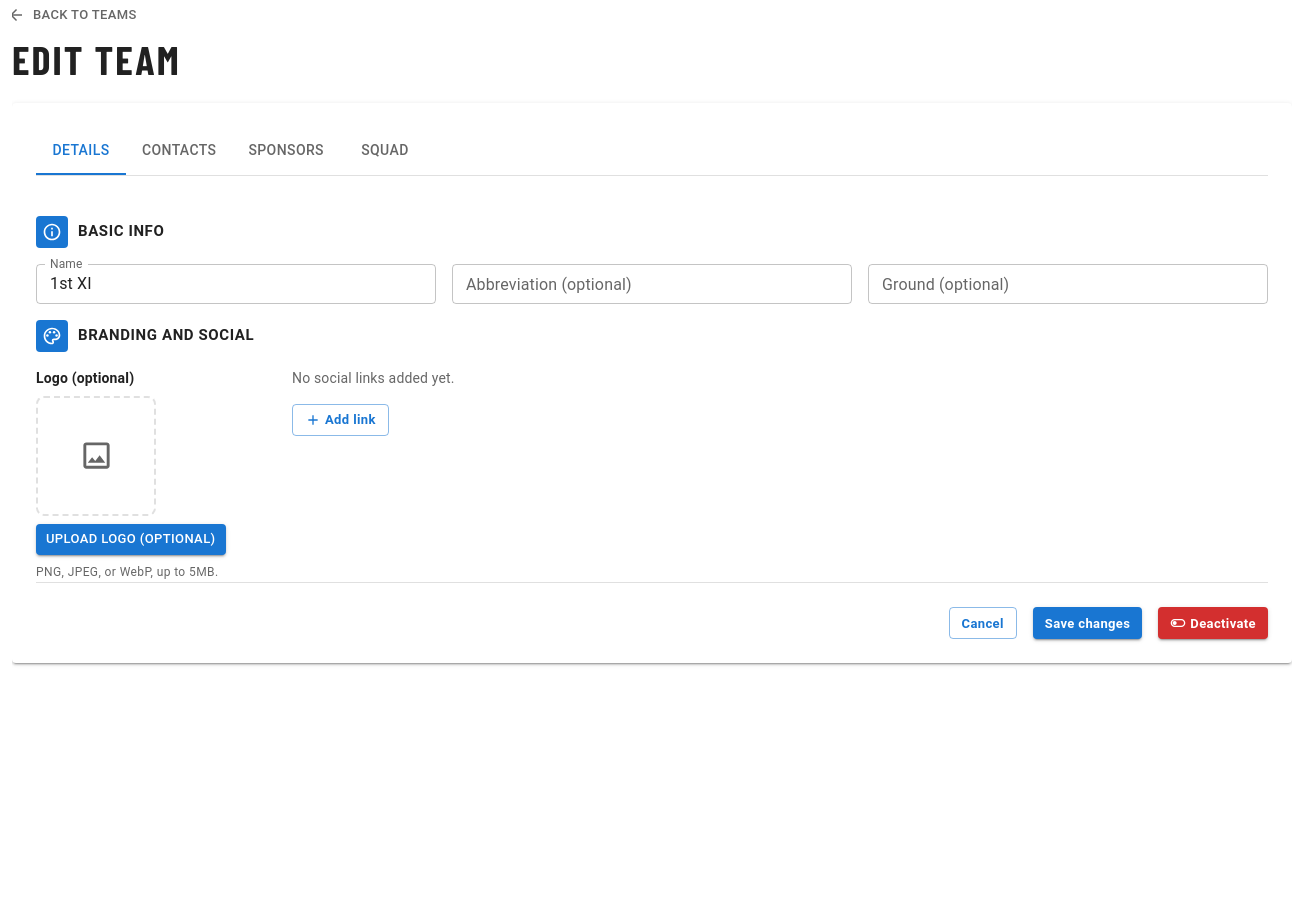
Test: TeamFormPage › section-scoped mode (sectionId in the route) › edit: renders Details/Contacts/Sponsors as tabs, one panel visible at a time, with the Save action only shown on Details
Expected: the heading "Edit Team" is shown, left=12, top=35, right=181, bottom=83
Expected: the field labelled "Name" is shown, left=36, top=264, right=436, bottom=304
Click the tab "Contacts": click(179, 151) left=126, top=127, right=232, bottom=175
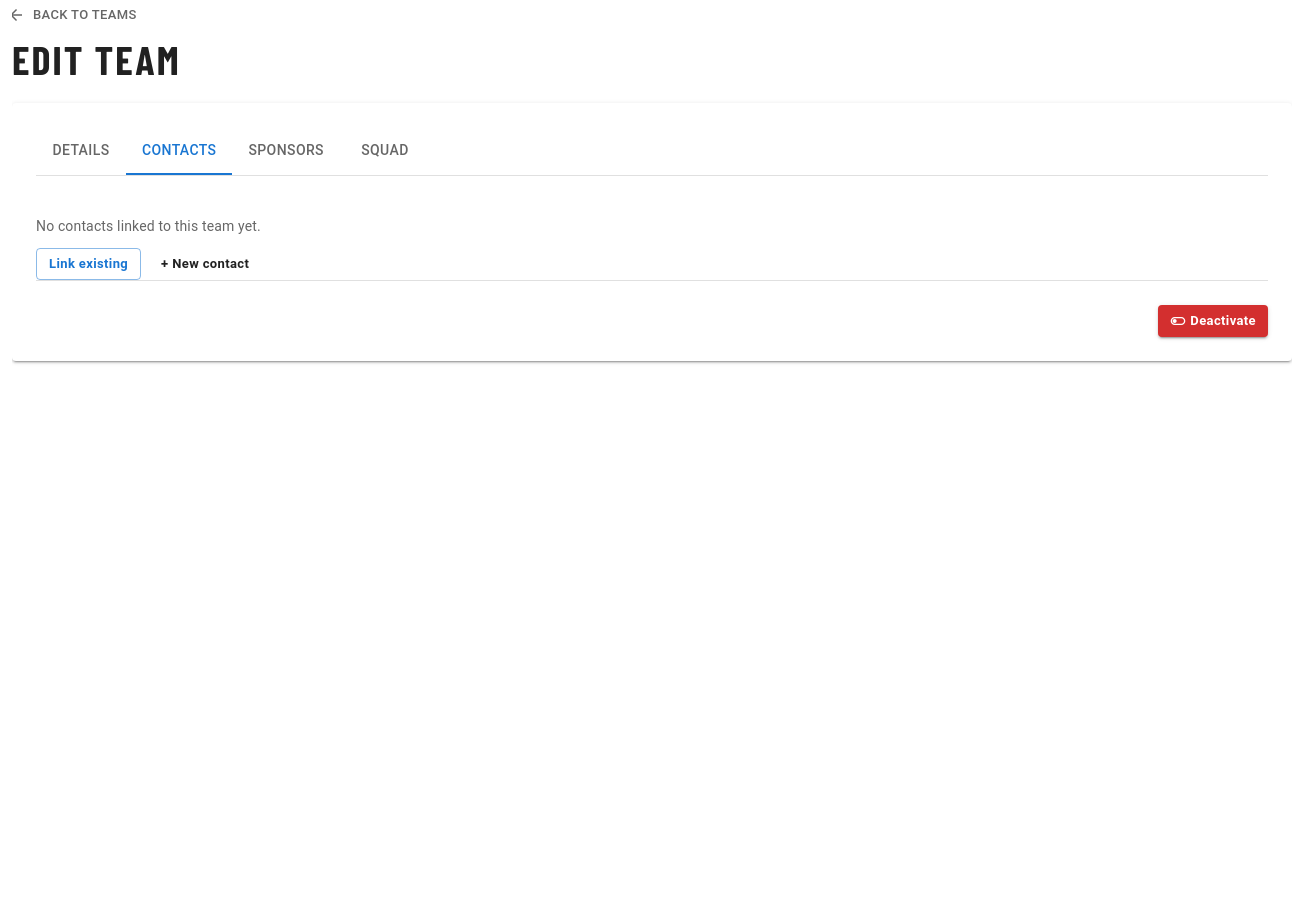
Result: the text "No contacts linked to this team yet." is shown at left=36, top=218, right=261, bottom=234
Result: the label labelled "Name" is gone
Result: the button "Save changes" is gone
Click the tab "Sponsors": click(286, 151) left=232, top=127, right=340, bottom=175
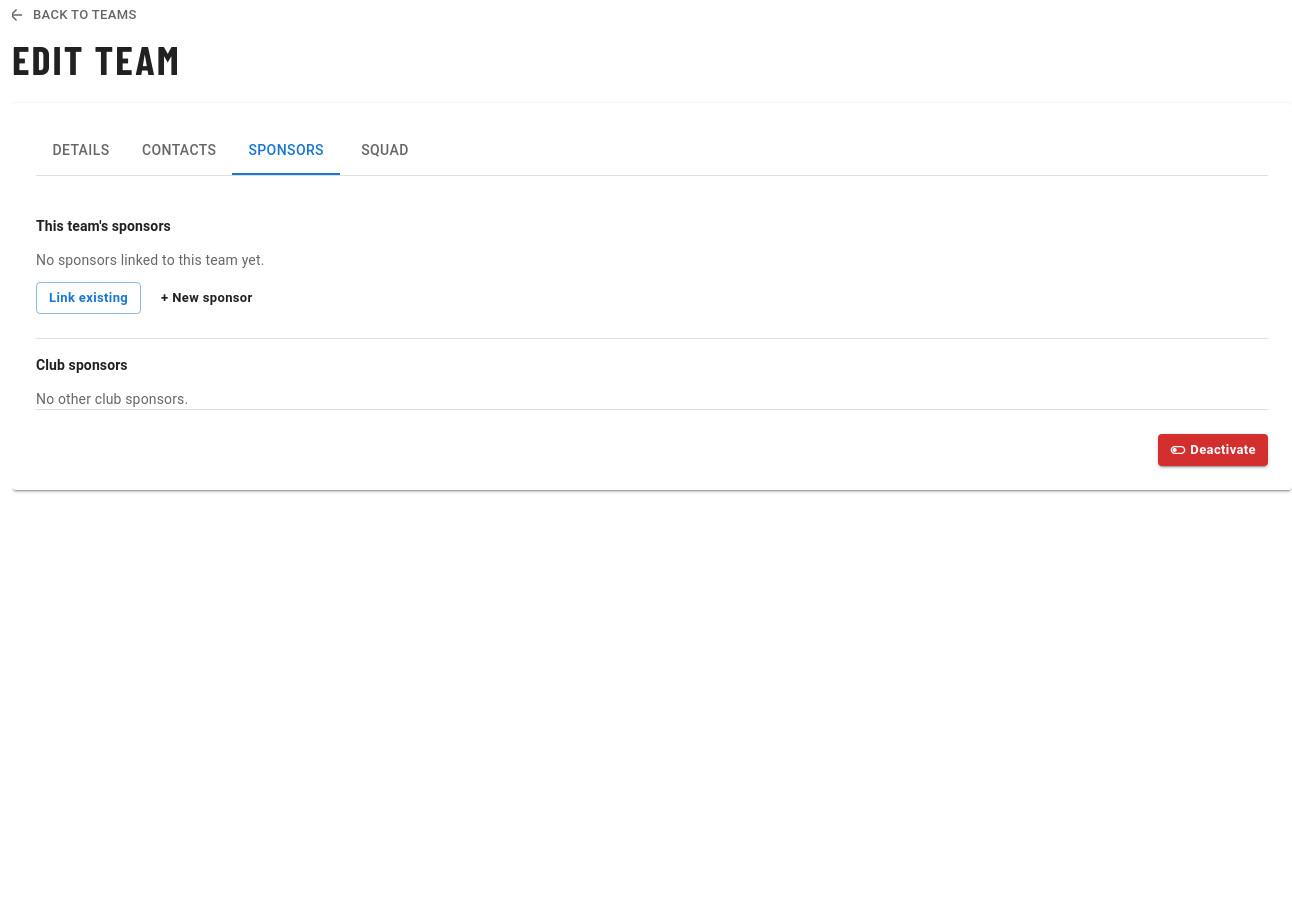
Expected: the button "Save changes" is not shown
Result: the heading "This team's sponsors" is shown at left=36, top=218, right=171, bottom=234
Result: the text "No contacts linked to this team yet." is gone
Click the tab "Details": click(81, 151) left=36, top=127, right=126, bottom=175
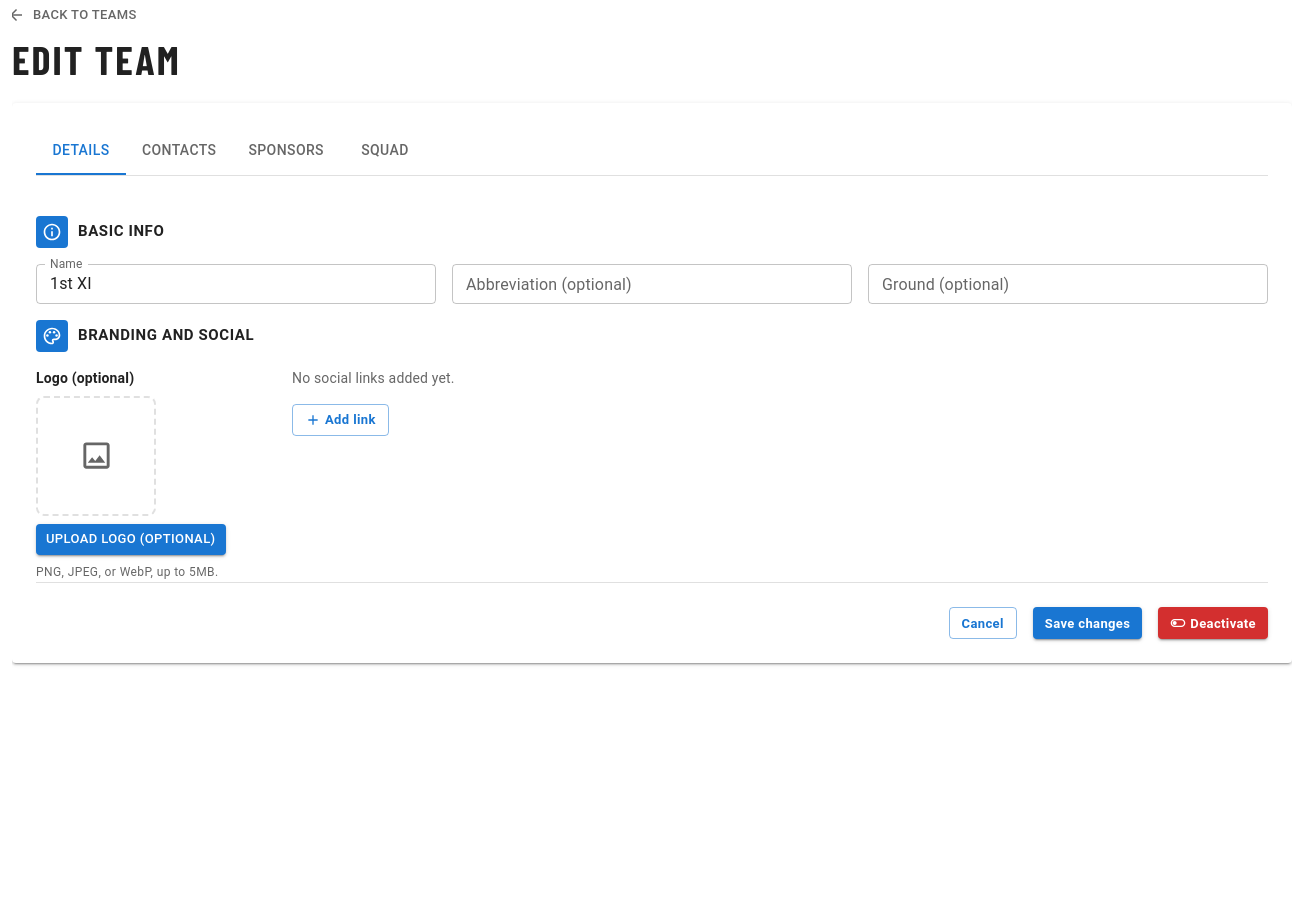
Result: the field labelled "Name" is shown at left=36, top=264, right=436, bottom=304
Result: the button "Save changes" is shown at left=1033, top=607, right=1142, bottom=639
